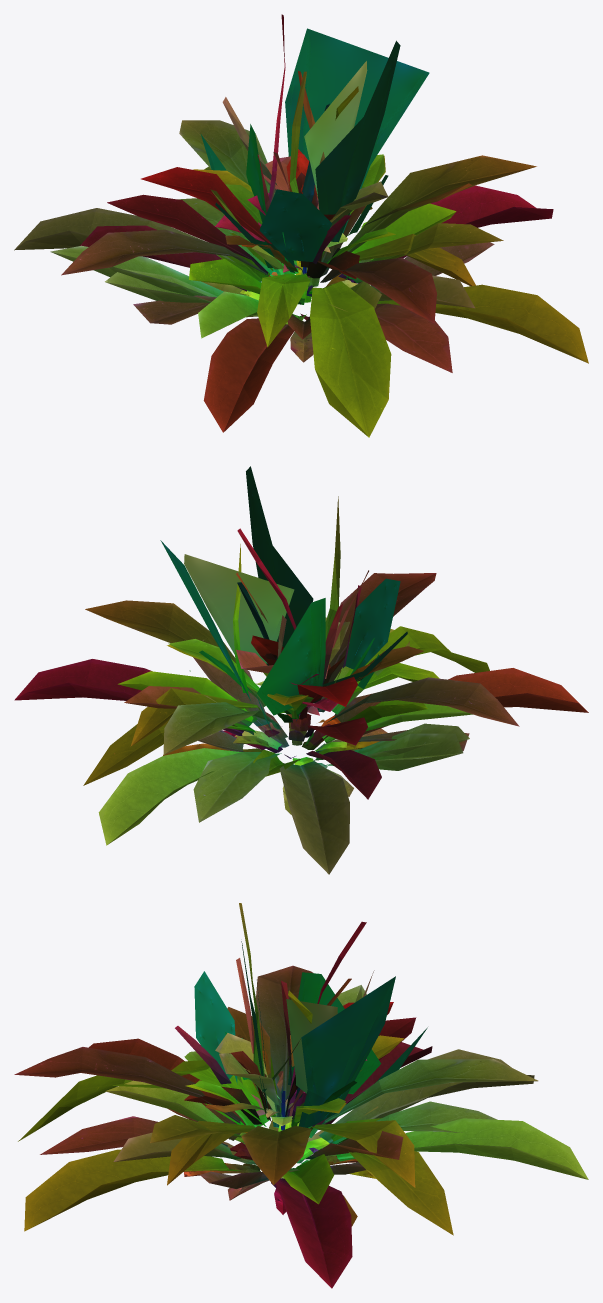
The picture shows the model from 3 angles, top to bottom: view 1: azimuth 30°, elevation 25°; view 2: azimuth 150°, elevation 25°; view 3: azimuth 270°, elevation 25°; orthographic projection. The views are drawn at different scales.
Visible parts, largest first — view 1: SM_ujzjfexja_VarJ, SM_ujzjfexja_VarB, SM_ujzjfexja_VarH, SM_ujzjfexja_VarI, SM_ujzjfexja_VarK, SM_ujzjfexja_VarC, SM_ujzjfexja_VarD, SM_ujzjfexja_VarG, SM_ujzjfexja_VarA; view 2: SM_ujzjfexja_VarJ, SM_ujzjfexja_VarH, SM_ujzjfexja_VarB, SM_ujzjfexja_VarI, SM_ujzjfexja_VarK, SM_ujzjfexja_VarC, SM_ujzjfexja_VarD, SM_ujzjfexja_VarE, SM_ujzjfexja_VarA; view 3: SM_ujzjfexja_VarJ, SM_ujzjfexja_VarH, SM_ujzjfexja_VarB, SM_ujzjfexja_VarI, SM_ujzjfexja_VarK, SM_ujzjfexja_VarC, SM_ujzjfexja_VarD, SM_ujzjfexja_VarG, SM_ujzjfexja_VarE, SM_ujzjfexja_VarA.
Part boxes in pixels (<box>): SM_ujzjfexja_VarJ: <box>14,166,588,432</box>; SM_ujzjfexja_VarB: <box>201,14,472,269</box>; SM_ujzjfexja_VarH: <box>61,120,536,347</box>; SM_ujzjfexja_VarI: <box>107,154,503,437</box>; SM_ujzjfexja_VarK: <box>80,203,474,339</box>; SM_ujzjfexja_VarC: <box>289,61,367,206</box>; SM_ujzjfexja_VarD: <box>202,260,346,362</box>; SM_ujzjfexja_VarG: <box>247,181,388,277</box>; SM_ujzjfexja_VarA: <box>215,154,346,275</box>; SM_ujzjfexja_VarJ: <box>14,629,588,874</box>; SM_ujzjfexja_VarH: <box>85,573,519,754</box>; SM_ujzjfexja_VarB: <box>160,466,407,732</box>; SM_ujzjfexja_VarI: <box>83,626,489,822</box>; SM_ujzjfexja_VarK: <box>118,671,472,799</box>; SM_ujzjfexja_VarC: <box>184,554,294,671</box>; SM_ujzjfexja_VarD: <box>163,712,387,814</box>; SM_ujzjfexja_VarE: <box>234,714,379,768</box>; SM_ujzjfexja_VarA: <box>236,617,349,722</box>; SM_ujzjfexja_VarJ: <box>24,985,588,1288</box>; SM_ujzjfexja_VarH: <box>14,965,538,1187</box>; SM_ujzjfexja_VarB: <box>175,903,427,1127</box>; SM_ujzjfexja_VarI: <box>18,1007,497,1235</box>; SM_ujzjfexja_VarK: <box>113,1042,432,1204</box>; SM_ujzjfexja_VarC: <box>286,999,337,1125</box>; SM_ujzjfexja_VarD: <box>219,1119,375,1226</box>; SM_ujzjfexja_VarG: <box>219,1053,306,1125</box>; SM_ujzjfexja_VarE: <box>184,1127,374,1199</box>; SM_ujzjfexja_VarA: <box>215,1033,367,1116</box>.
Size of what is drawn, in the model's own units: 0.2972 by 0.164 by 0.2973.
1 material, 1 textured.
